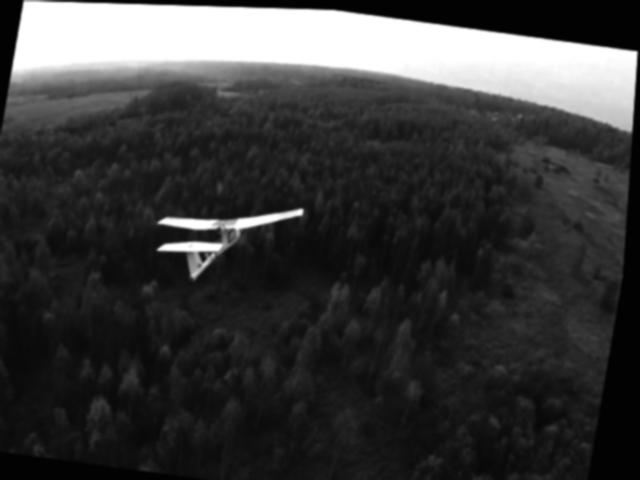hedef: (147, 184, 314, 288)
